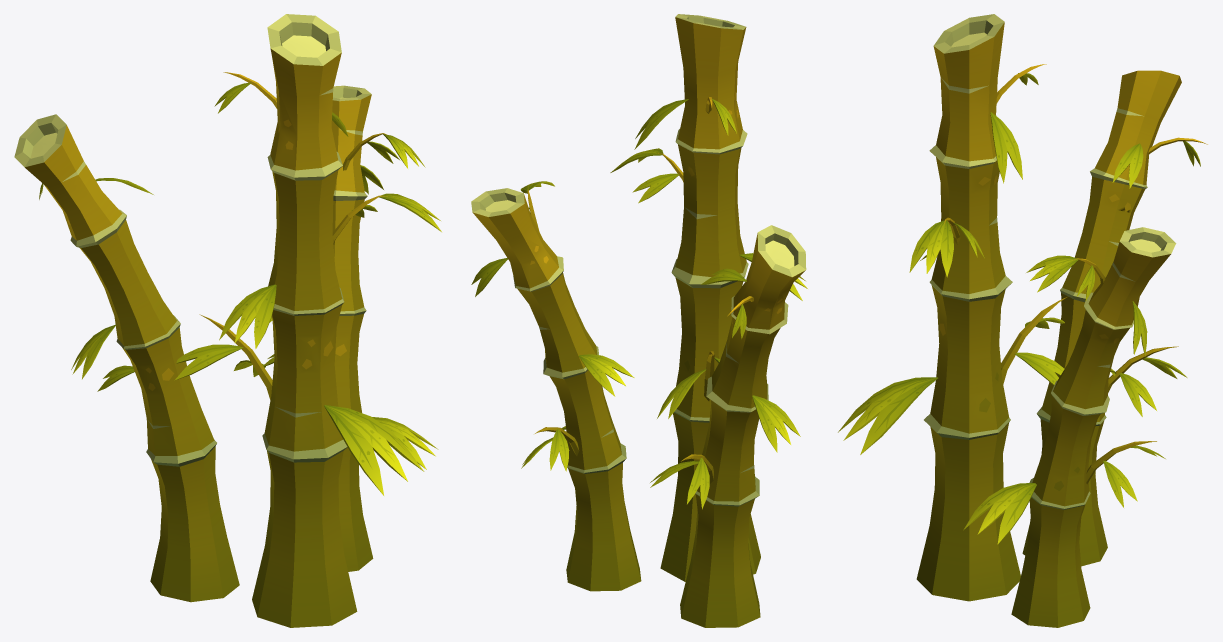
The model's file is bamboo_4.glb.
The picture shows the model from 3 angles, left to right: view 1: azimuth 30°, elevation 25°; view 2: azimuth 150°, elevation 25°; view 3: azimuth 270°, elevation 25°; orthographic projection. The views are drawn at different scales.
Parts seen in each view (by area): view 1: bamboo_4; view 2: bamboo_4; view 3: bamboo_4.
Boxes of the visible parts, x1,y1,x2,y2 form: bamboo_4: [14, 14, 441, 627]; bamboo_4: [471, 14, 807, 627]; bamboo_4: [838, 14, 1207, 627].
Size of the model in its own units: 2.15 by 3.34 by 2.02.
Materials: 1 (1 with a texture image).
